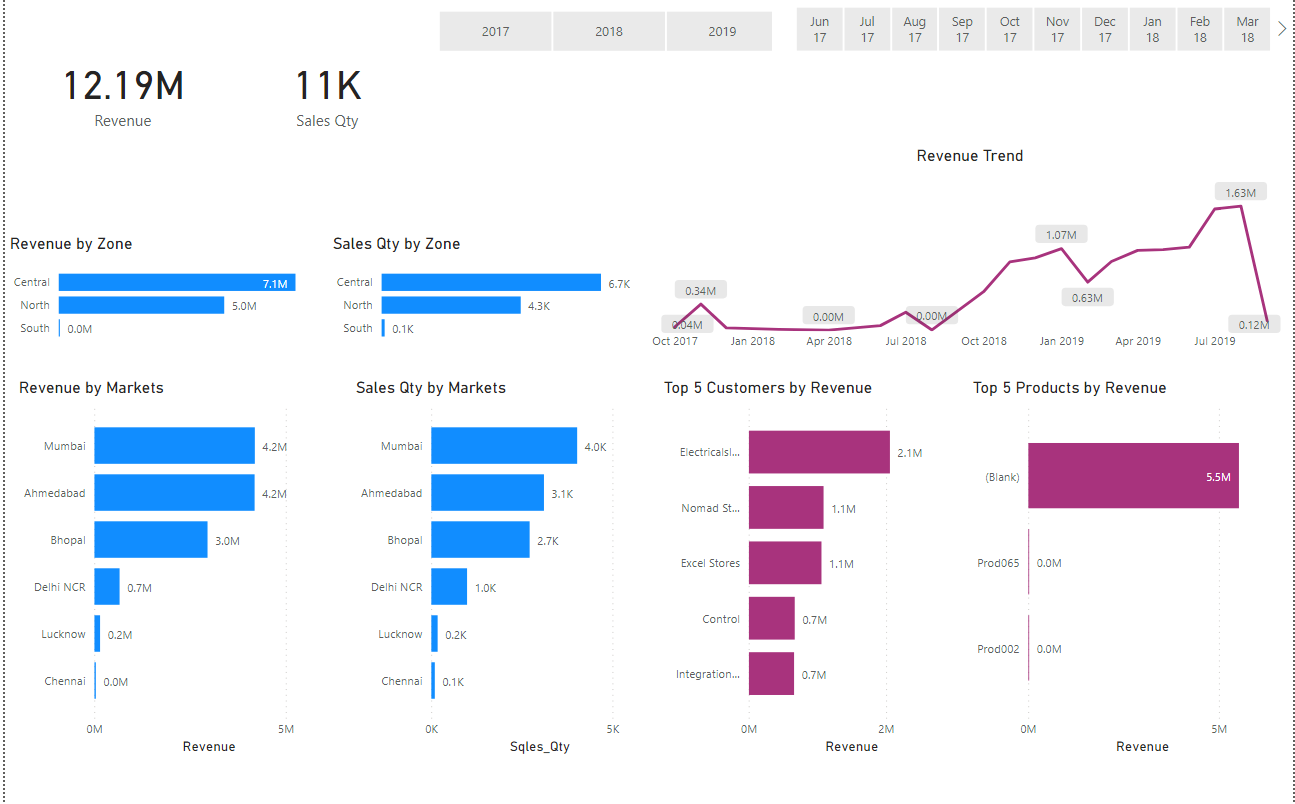

What the dashboard file says about the page in this screenshot:
{"tool":"powerbi","page":{"name":"Page 1","canvas":[1350,850],"ordinal":0},"visuals":[{"type":"card","fields":{"Values":["BaseMeasure.Revenue"]},"box":[32.5,39.8,182.4,116.3],"z":0},{"type":"card","title":"Sales Qty","fields":{"Values":["BaseMeasure.Sqles_Qty"]},"box":[247.3,39.8,181.3,116.3],"z":1000},{"type":"slicer","fields":{"Values":["date.year"]},"box":[429.7,8.4,404.6,54.5],"z":2000},{"type":"barChart","title":"Revenue by Zone","fields":{"Y":["BaseMeasure.Revenue"],"Category":["markets.zone"]},"box":[0,248.4,338.5,122.6],"z":3000},{"type":"barChart","title":"Sales Qty by Zone","fields":{"Y":["BaseMeasure.Sqles_Qty"],"Category":["markets.zone"]},"box":[338.5,248.4,334.3,122.6],"z":4000},{"type":"slicer","fields":{"Values":["date.cy_date"]},"box":[803.9,4.2,546.1,58.7],"z":5000},{"type":"barChart","title":"Revenue by Markets","fields":{"Y":["BaseMeasure.Revenue"],"Category":["markets.markets_name"]},"box":[9.4,399.3,338.5,399.3],"z":6000},{"type":"barChart","title":"Sales Qty by Markets","fields":{"Y":["BaseMeasure.Sqles_Qty"],"Category":["markets.markets_name"]},"box":[362.6,399.3,323.9,399.3],"z":7000},{"type":"barChart","title":"Top 5 Customers by Revenue","fields":{"Category":["customers.custmer_name"],"Y":["BaseMeasure.Revenue"]},"box":[685.5,399.3,323.9,399.3],"z":8000},{"type":"barChart","title":"Top 5 Products by Revenue","fields":{"Y":["BaseMeasure.Revenue"],"Category":["products.product_code"]},"box":[1009.3,399.3,316.5,399.3],"z":8001},{"type":"lineChart","title":"Revenue Trend","fields":{"Y":["BaseMeasure.Revenue"],"Category":["date.cy_date"]},"box":[672.9,156.2,677.1,223.2],"z":8002}]}

Visuals, with their boxes in screenshot pixels (x1, y1, x2, y2), scaled from the page's 1350x850 canvas onto the 1295x804 screenshot:
card - BaseMeasure.Revenue: x1=31 y1=38 x2=206 y2=148
"Sales Qty" card: x1=237 y1=38 x2=411 y2=148
slicer - date.year: x1=412 y1=8 x2=800 y2=59
"Revenue by Zone" barChart: x1=0 y1=235 x2=325 y2=351
"Sales Qty by Zone" barChart: x1=325 y1=235 x2=645 y2=351
slicer - date.cy_date: x1=771 y1=4 x2=1294 y2=59
"Revenue by Markets" barChart: x1=9 y1=378 x2=334 y2=755
"Sales Qty by Markets" barChart: x1=348 y1=378 x2=659 y2=755
"Top 5 Customers by Revenue" barChart: x1=658 y1=378 x2=968 y2=755
"Top 5 Products by Revenue" barChart: x1=968 y1=378 x2=1272 y2=755
"Revenue Trend" lineChart: x1=645 y1=148 x2=1294 y2=359
